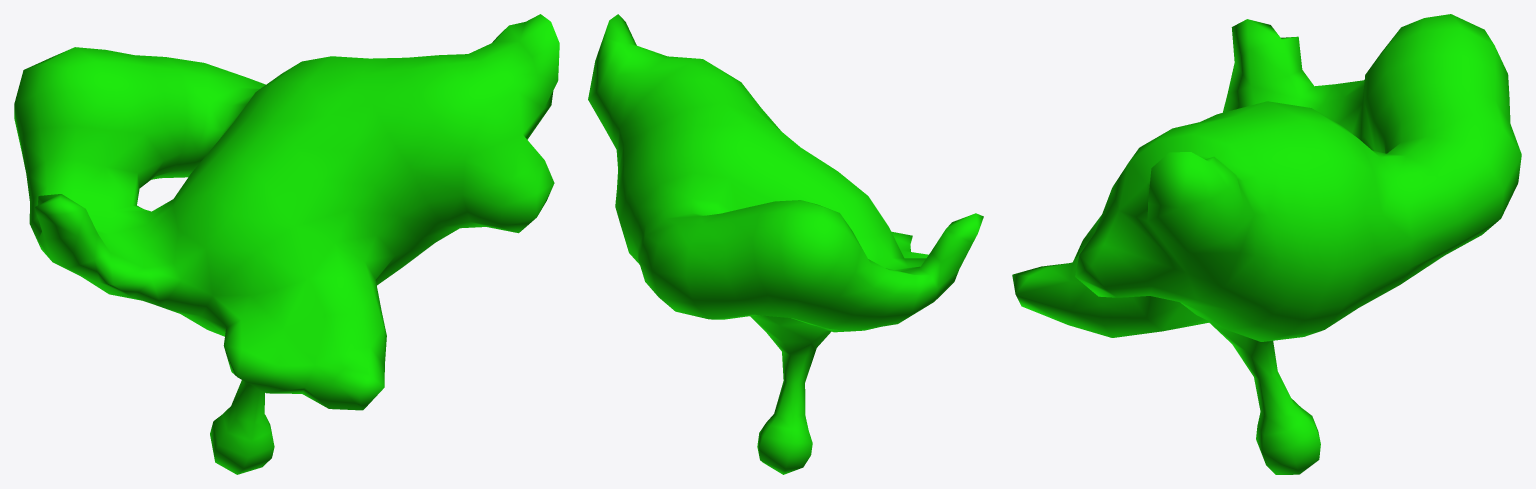
File: p_lorenzo_hairgoop01_pose0.fbx
3 renders of one model, left to right at view 1: azimuth 30°, elevation 25°; view 2: azimuth 150°, elevation 25°; view 3: azimuth 270°, elevation 25°, orthographic. The views are drawn at different scales.
Parts seen in each view (by area): view 1: p_lorenzo_hairgoop01_pose0; view 2: p_lorenzo_hairgoop01_pose0; view 3: p_lorenzo_hairgoop01_pose0.
Boxes of the visible parts, bbox=[...] form: p_lorenzo_hairgoop01_pose0: bbox=[14, 14, 559, 474]; p_lorenzo_hairgoop01_pose0: bbox=[588, 14, 983, 474]; p_lorenzo_hairgoop01_pose0: bbox=[1012, 14, 1521, 474].
Size of the model in its own units: 1.09 by 0.9335 by 0.9594.
